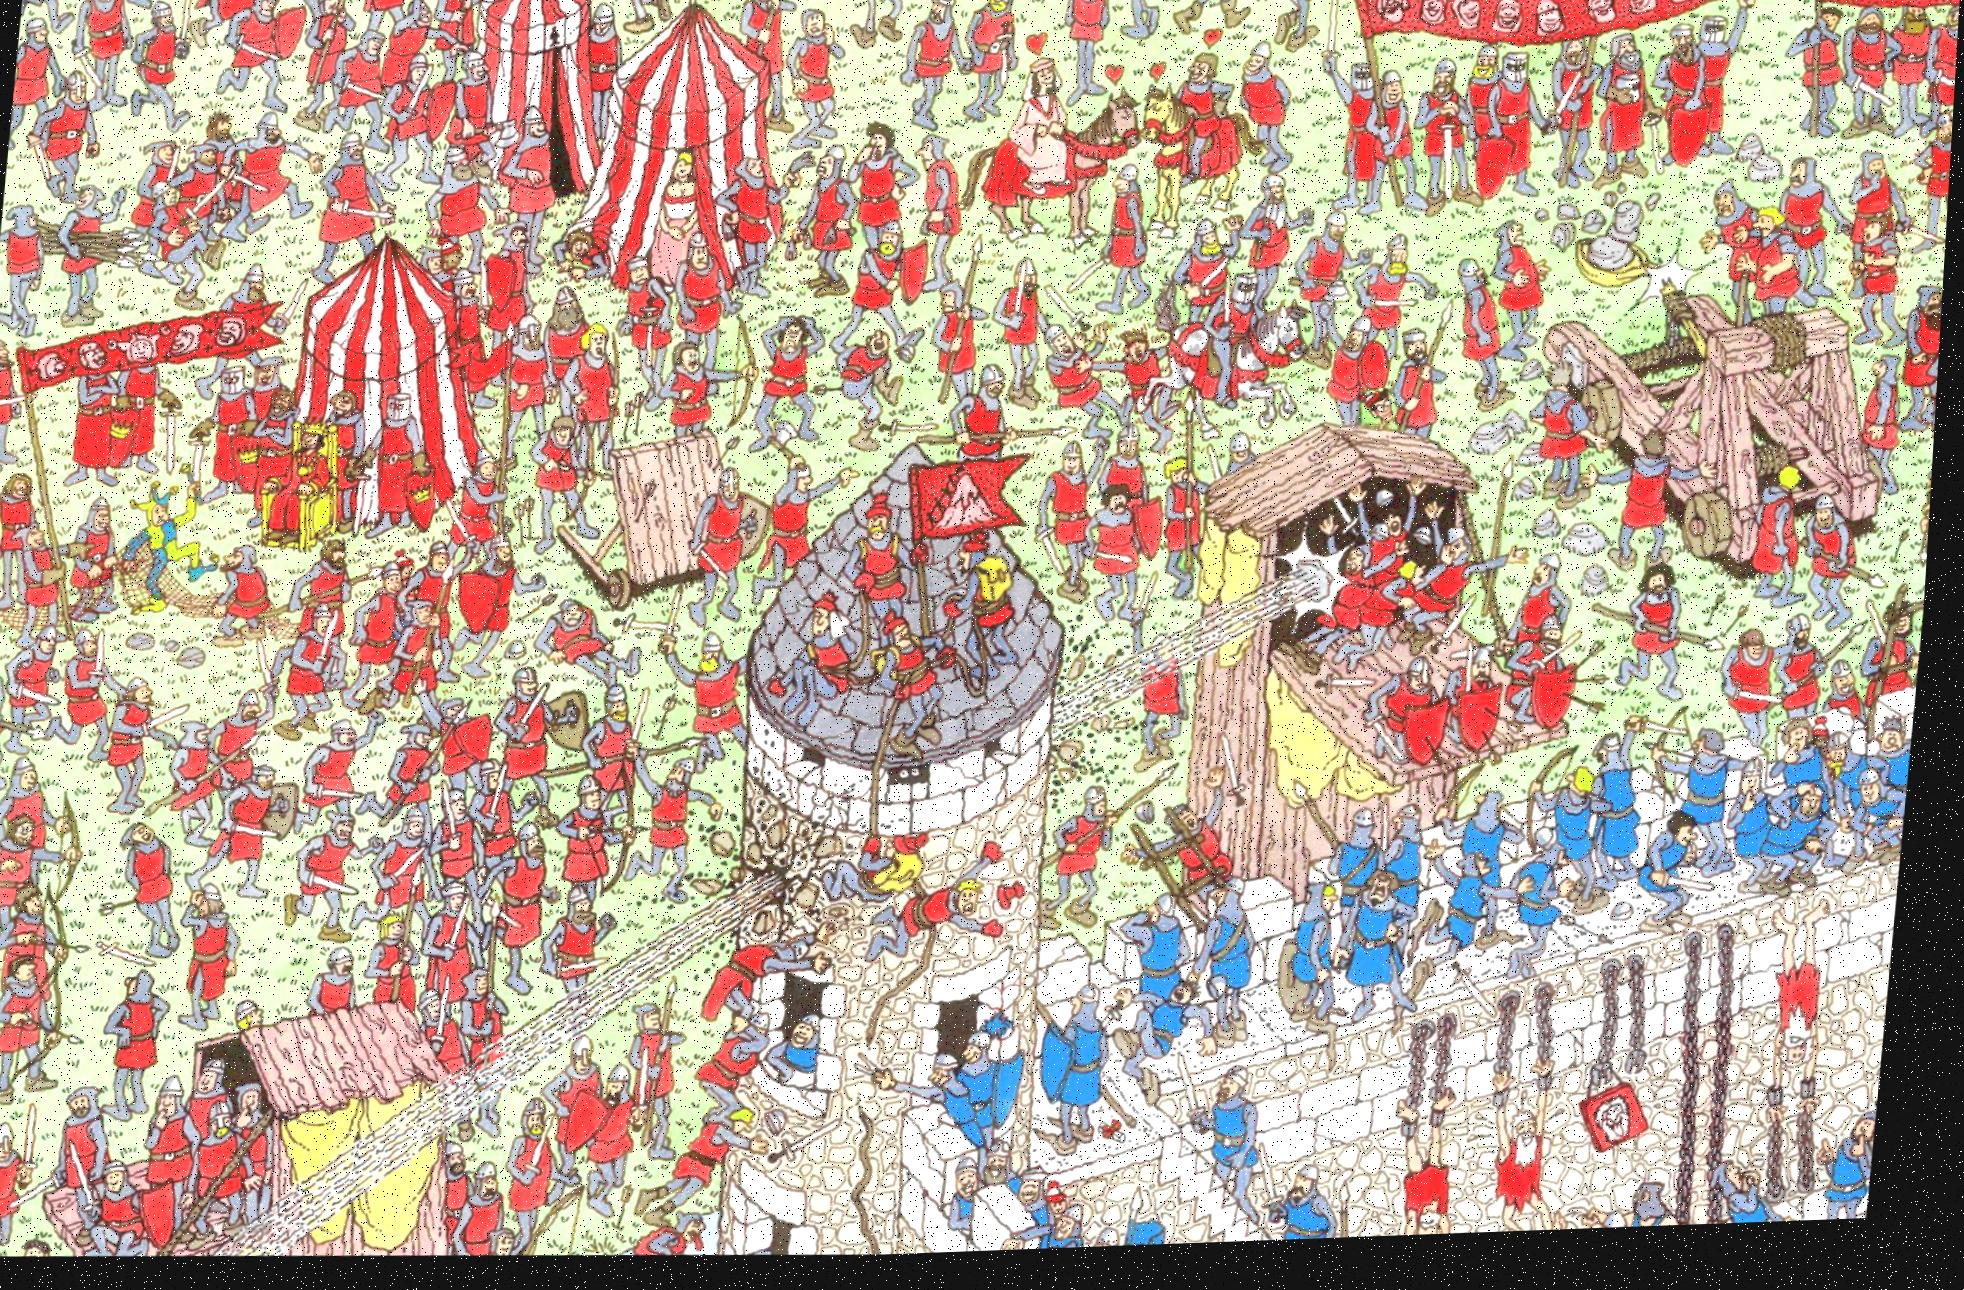waldo: (1359, 399, 1401, 441)
